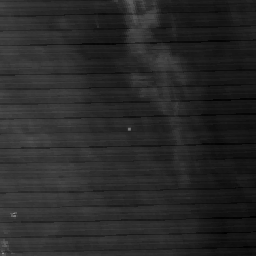Target: (126, 127, 133, 132)
